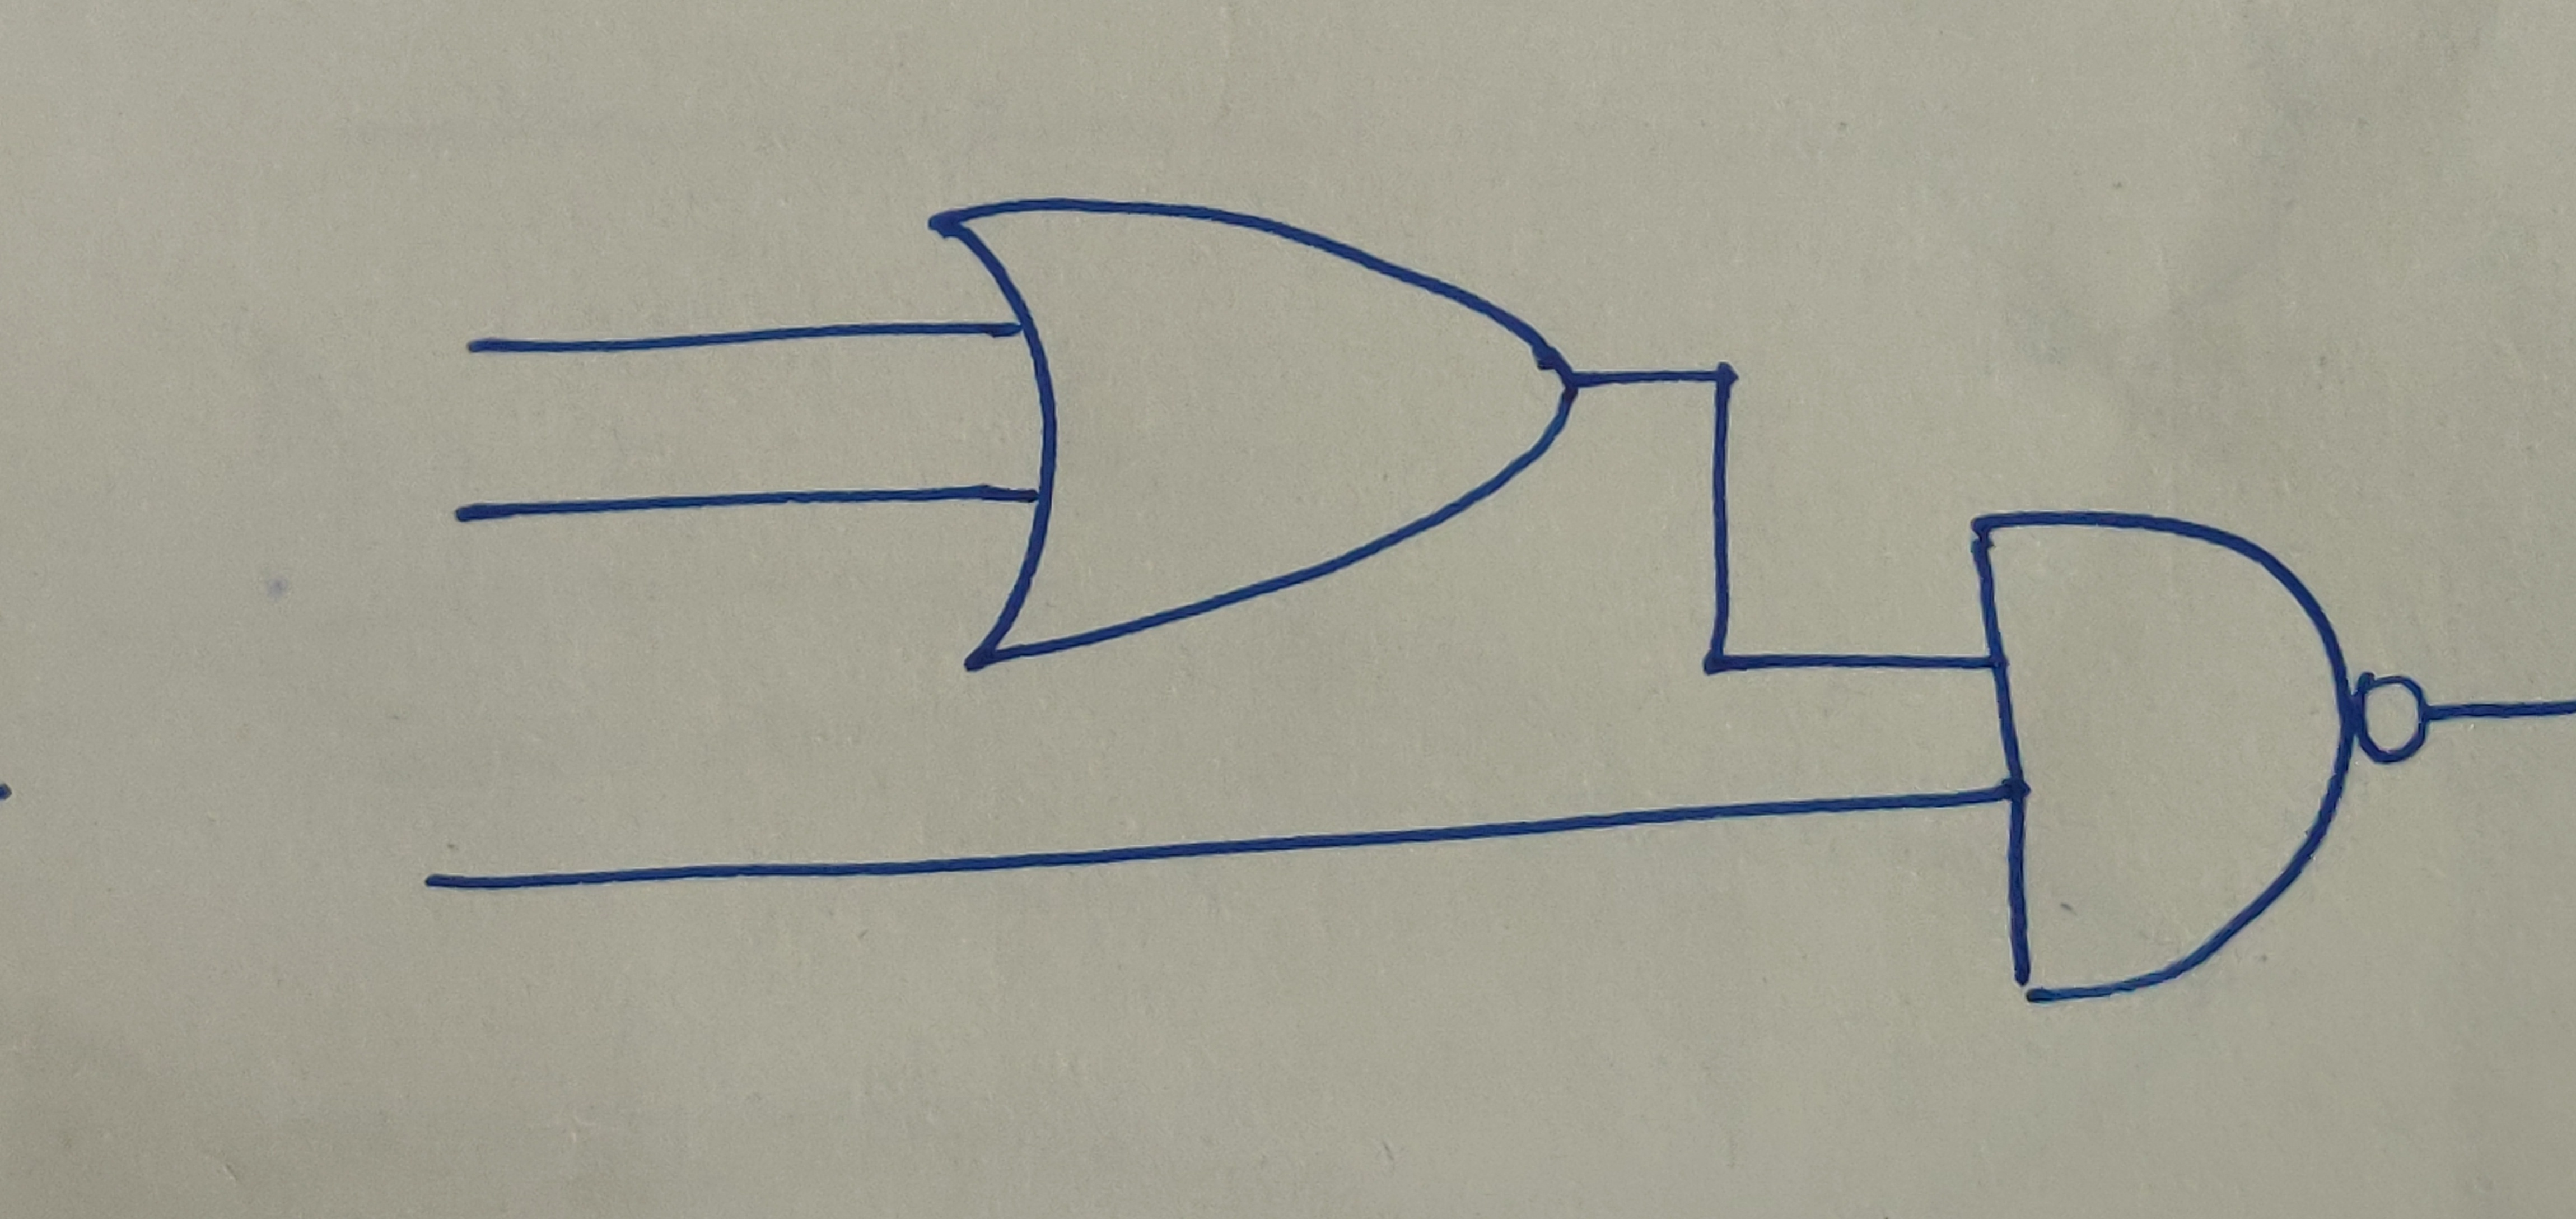and: (1963, 514, 2361, 1007)
not: (2351, 675, 2436, 777)
or: (925, 191, 1584, 672)
